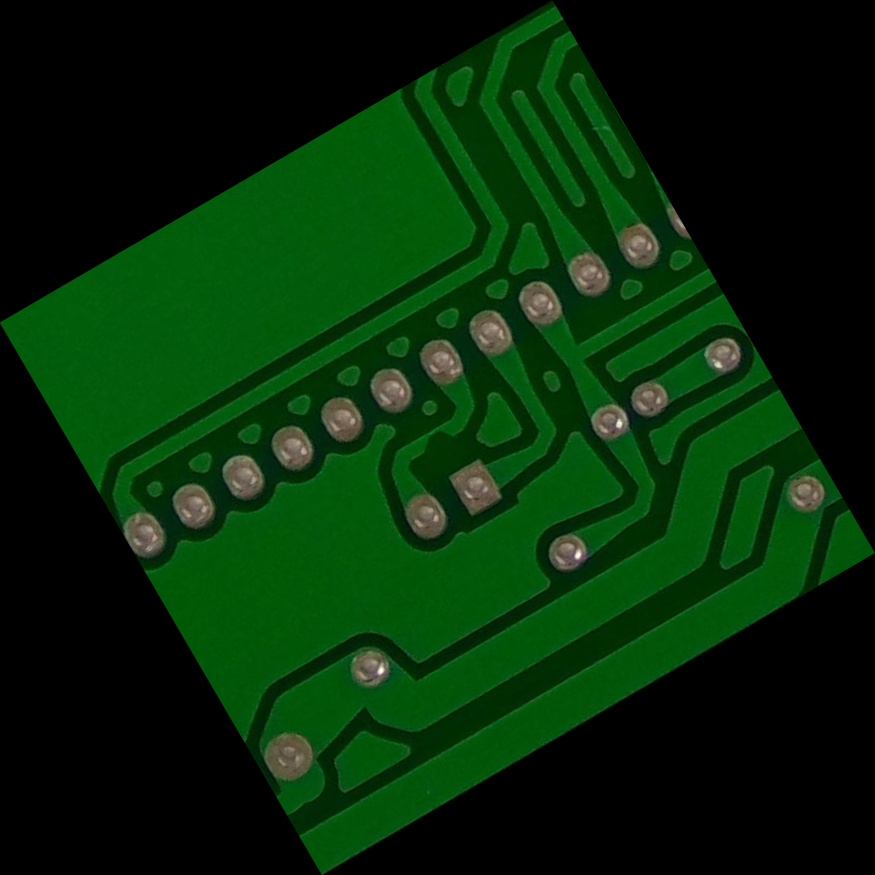mouse_bite: (405, 409, 470, 466)
